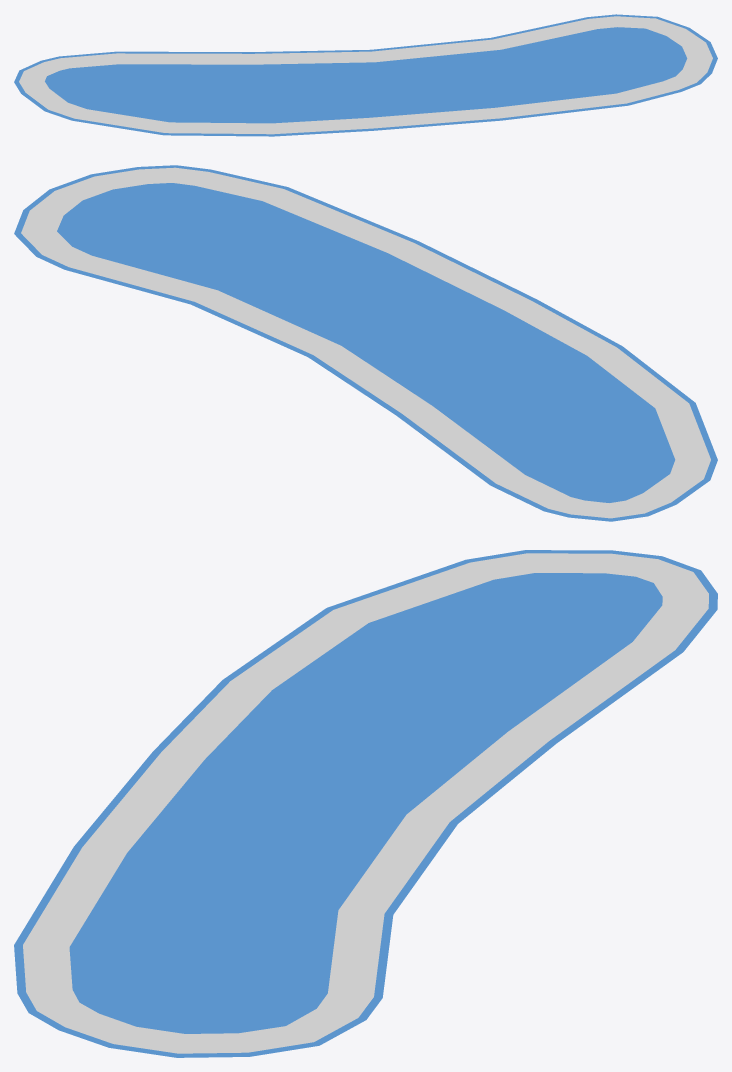
Rendered from Park_Water.fbx.
3 renders of one model, top to bottom at view 1: azimuth 30°, elevation 25°; view 2: azimuth 150°, elevation 25°; view 3: azimuth 270°, elevation 25°, orthographic. The views are drawn at different scales.
Visible parts, largest first — view 1: Park_Water; view 2: Park_Water; view 3: Park_Water.
Boxes of the visible parts, x1,y1,x2,y2 form: Park_Water: (14,14,717,136); Park_Water: (14,165,717,521); Park_Water: (14,550,717,1057).
Size of the model in its own units: 5339 by 2.32 by 3128.
